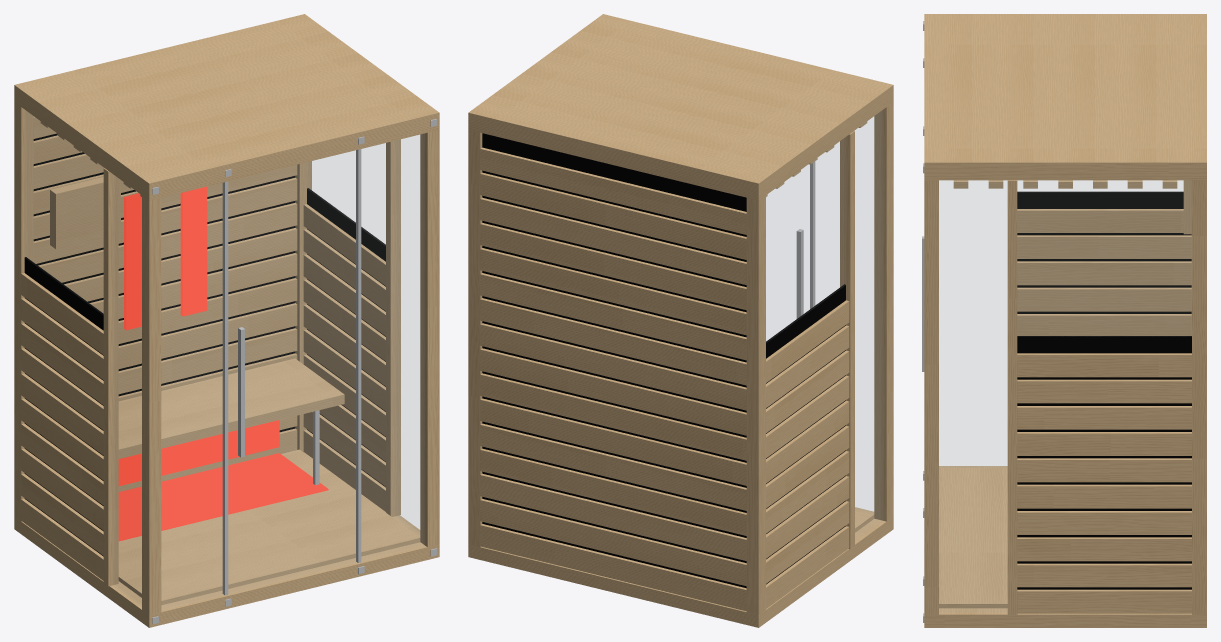
The model's file is nua-2.glb.
3 views of the same model, side by side, from view 1: azimuth 30°, elevation 25°; view 2: azimuth 150°, elevation 25°; view 3: azimuth 270°, elevation 25° (orthographic). The views are drawn at different scales.
Visible parts, largest first — view 1: pale, glass, heater, red, reveal, steel; view 2: pale, glass, reveal, steel; view 3: pale, glass, reveal, steel.
Boxes of the visible parts, box(x1,y1,x2,y2) form: pale: box(14, 14, 439, 627); glass: box(307, 135, 420, 534); heater: box(118, 186, 279, 486); red: box(118, 453, 328, 541); reveal: box(24, 133, 385, 556); steel: box(152, 119, 437, 624); pale: box(468, 14, 893, 627); glass: box(766, 117, 874, 513); reveal: box(482, 133, 845, 588); steel: box(796, 161, 815, 318); pale: box(924, 14, 1206, 627); glass: box(939, 180, 1183, 467); reveal: box(1017, 191, 1191, 589); steel: box(922, 21, 924, 622).
Size of the model in its own units: 1.44 by 2.09 by 1.16.
Materials: 6 (1 with a texture image).
